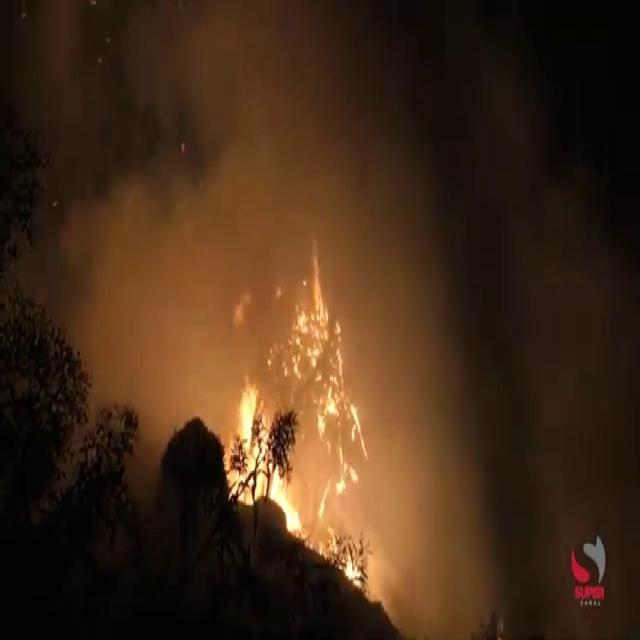Fire: (283, 265, 364, 450), (228, 394, 301, 538), (309, 240, 323, 323), (348, 402, 364, 454), (324, 528, 338, 562), (343, 554, 360, 580)
Smoke: (13, 12, 631, 628)
